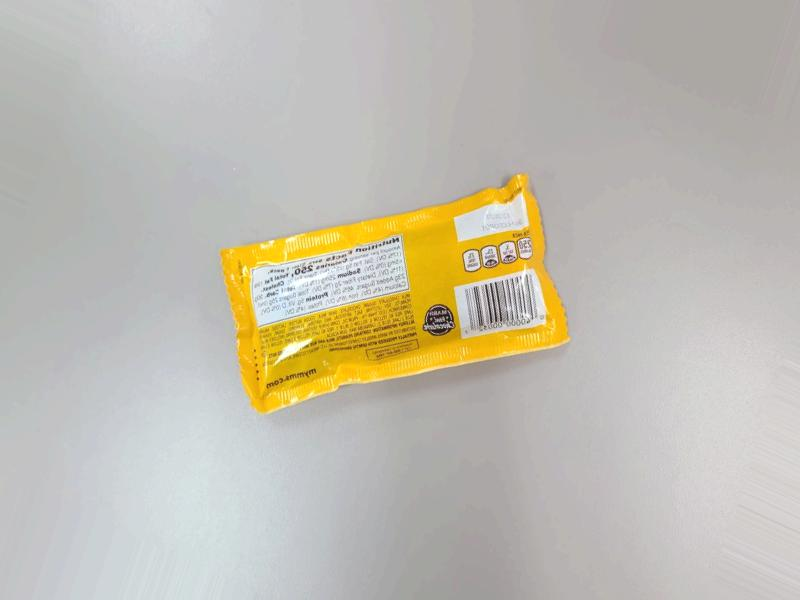m&m: (226, 169, 555, 402)
